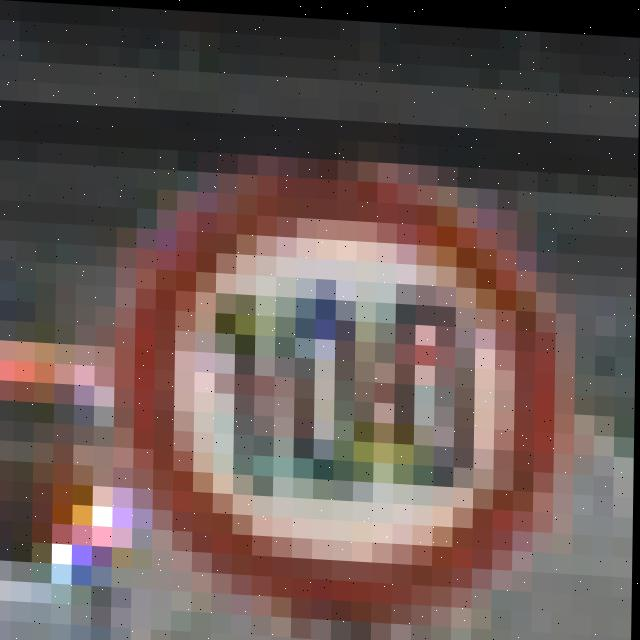speed_limit_100: (101, 184, 579, 613)
